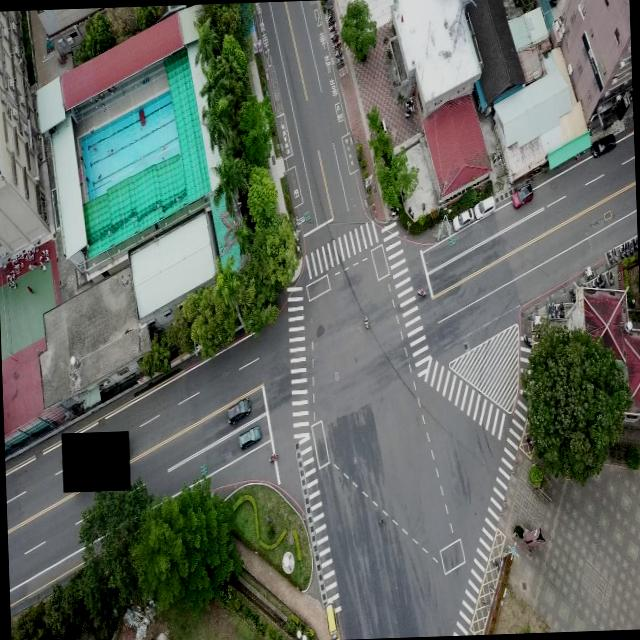bike: (359, 312, 372, 331), (414, 286, 426, 298), (523, 332, 532, 348), (404, 106, 414, 120), (551, 302, 558, 321), (607, 249, 615, 265), (404, 96, 414, 108), (546, 300, 552, 320), (612, 245, 619, 262), (618, 241, 624, 259), (622, 240, 628, 258), (336, 56, 344, 68), (335, 46, 343, 58), (332, 38, 340, 49), (331, 29, 338, 40)
car: (224, 396, 250, 424), (590, 132, 617, 156), (237, 422, 262, 447), (451, 206, 475, 232), (511, 182, 534, 208), (325, 600, 340, 638), (474, 194, 496, 218)
